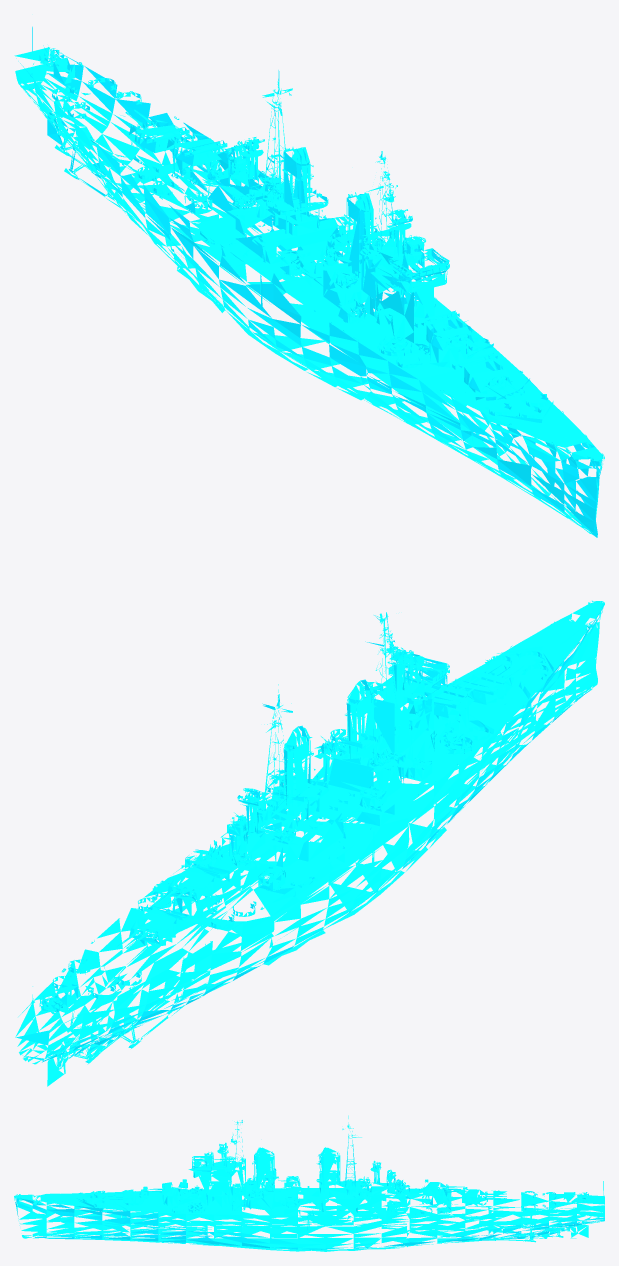
Rendered from PBSC910.glb.
3 renders of one model, top to bottom at view 1: azimuth 30°, elevation 25°; view 2: azimuth 150°, elevation 25°; view 3: azimuth 270°, elevation 25°, orthographic. The views are drawn at different scales.
Parts seen in each view (by area): view 1: hull, turret; view 2: hull, turret; view 3: hull, turret.
Boxes of the visible parts, <box> form: hull: <box>14,26,604,537</box>; turret: <box>125,70,523,398</box>; hull: <box>15,600,604,1086</box>; turret: <box>117,631,523,948</box>; hull: <box>14,1120,604,1251</box>; turret: <box>103,1115,506,1215</box>.
Bounding box in the file's own units: 1.73 × 3.46 × 15.05.
